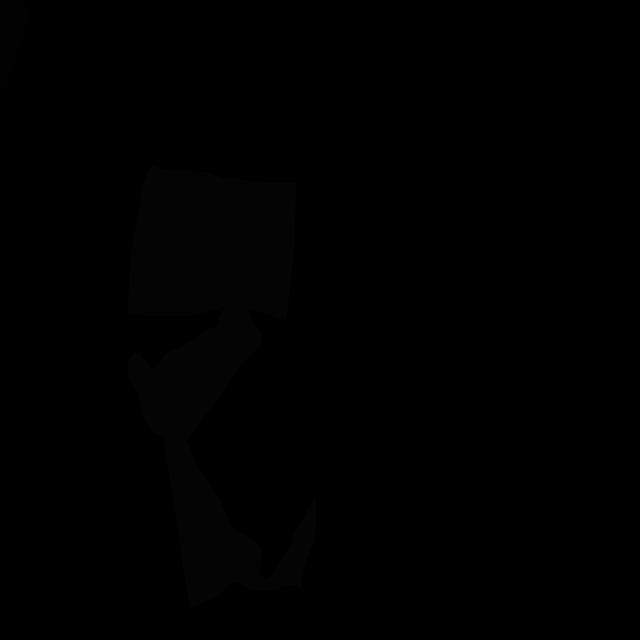soft_plastic: (127, 307, 316, 608), (127, 165, 296, 320)
